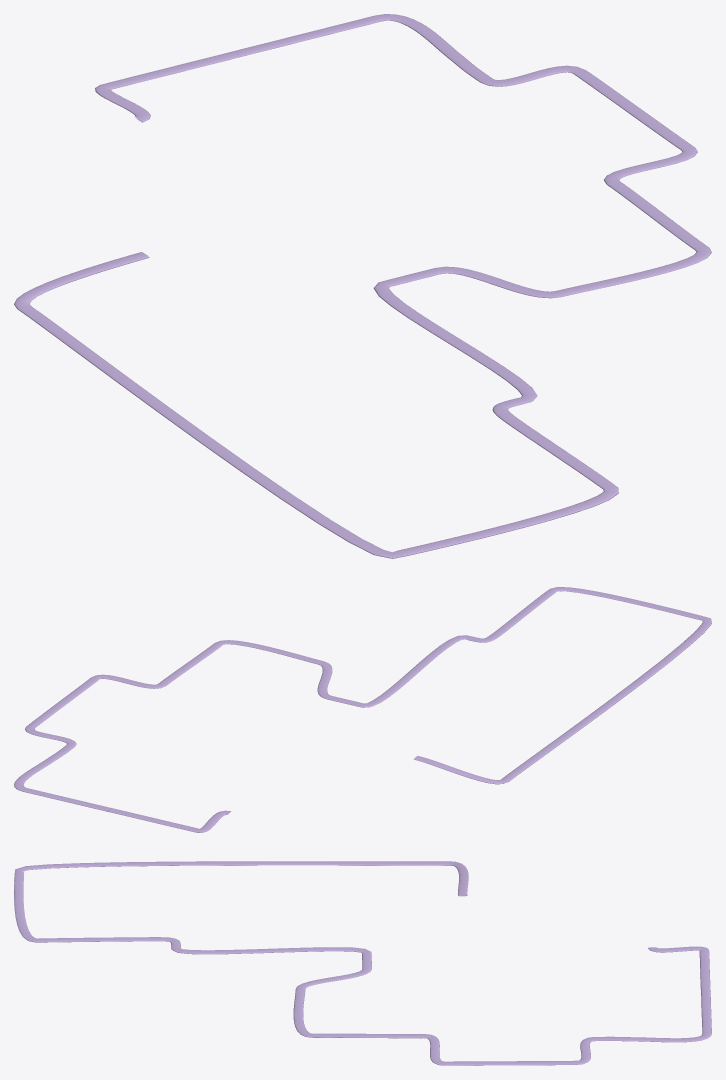
The model's file is path.glb.
3 views of the same model, one above another, from view 1: azimuth 30°, elevation 25°; view 2: azimuth 150°, elevation 25°; view 3: azimuth 270°, elevation 25° (orthographic). The views are drawn at different scales.
Parts seen in each view (by area): view 1: path; view 2: path; view 3: path.
Boxes of the visible parts, x1,y1,x2,y2 form: path: [14, 14, 711, 558]; path: [14, 587, 711, 832]; path: [14, 861, 711, 1065].
Size of the model in its own units: 4.71 by 0.1009 by 6.81.
